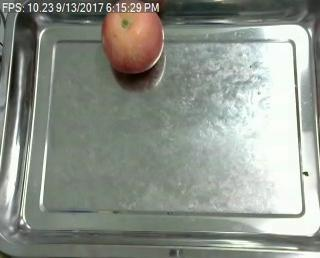apple: (102, 12, 163, 73)
